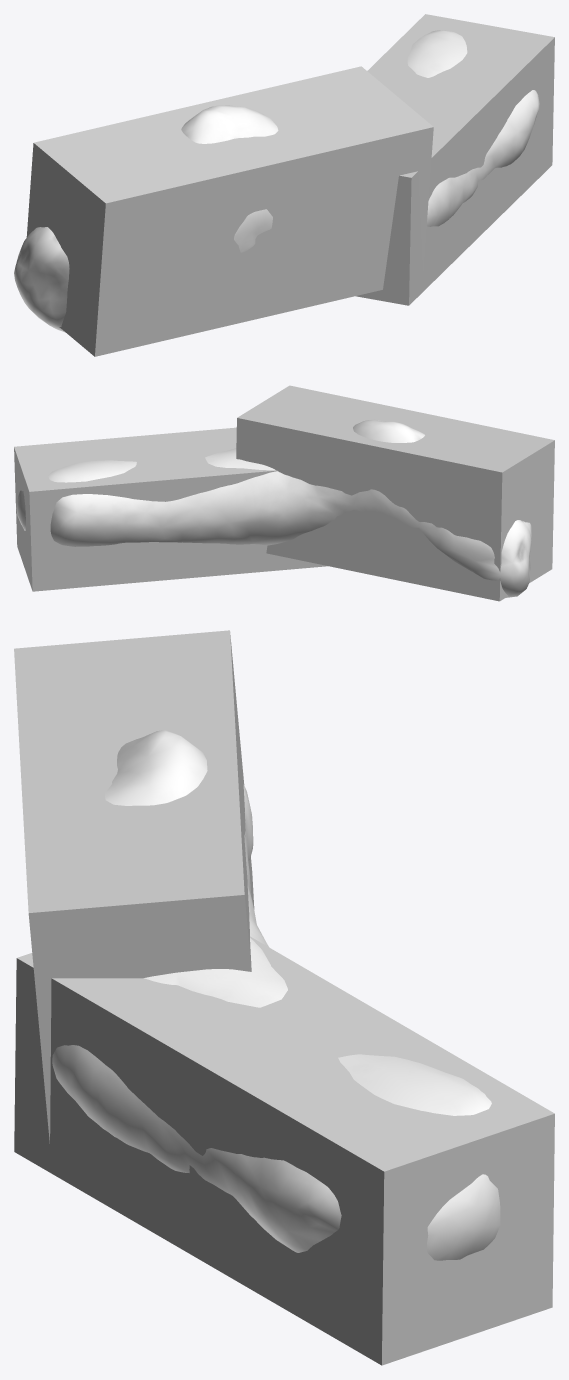
File: Coral_7.glb
The picture shows the model from 3 angles, top to bottom: view 1: azimuth 30°, elevation 25°; view 2: azimuth 150°, elevation 25°; view 3: azimuth 270°, elevation 25°; orthographic projection. The views are drawn at different scales.
Parts seen in each view (by area): view 1: Cube.018, Cube.019, A03612_Koralle7.001; view 2: Cube.018, A03612_Koralle7.001, Cube.019; view 3: Cube.019, Cube.018, A03612_Koralle7.001.
Boxes of the visible parts, box(x1,y1,x2,y2) form: Cube.018: box(26, 66, 433, 356); Cube.019: box(356, 14, 554, 305); A03612_Koralle7.001: box(14, 30, 539, 332); Cube.018: box(236, 385, 554, 601); A03612_Koralle7.001: box(16, 419, 531, 597); Cube.019: box(14, 427, 327, 591); Cube.019: box(14, 936, 554, 1365); Cube.018: box(14, 630, 254, 1143); A03612_Koralle7.001: box(52, 730, 500, 1260).
Bounding box in the file's own units: 0.3924 × 0.13 × 0.1996.
Materials: 1 (1 with a texture image).
